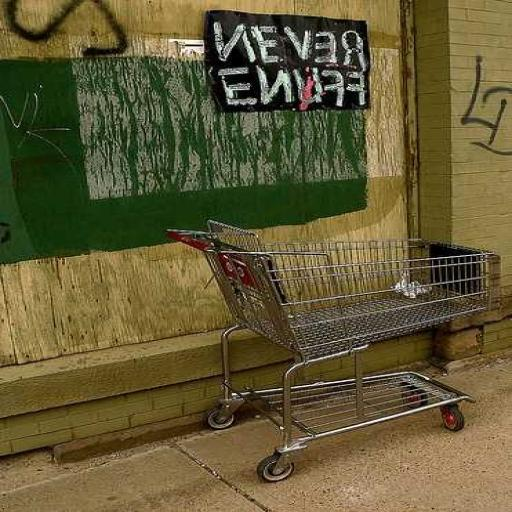shopping_cart: (167, 217, 502, 482)
